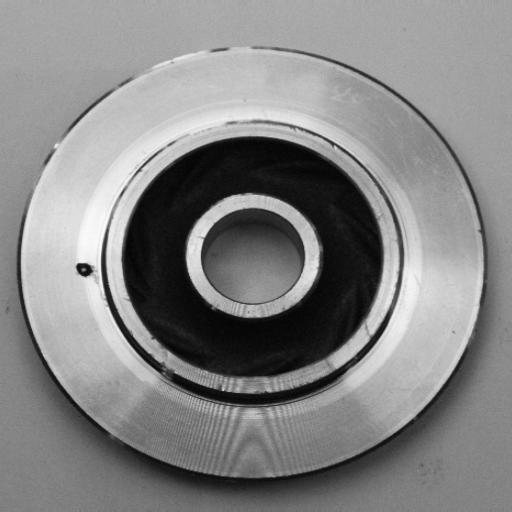pit: (72, 254, 98, 288)
scratch: (127, 40, 257, 78), (167, 111, 264, 143)
unpolished_casting: (17, 41, 487, 484)
